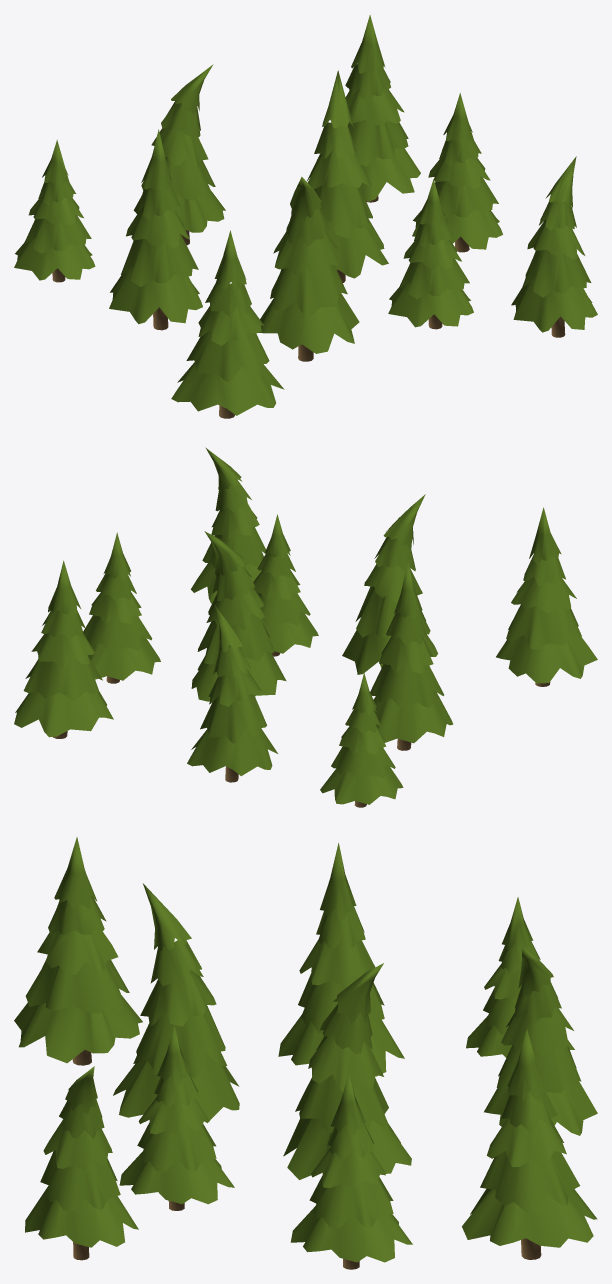
Rendered from pine.glb.
3 renders of one model, top to bottom at view 1: azimuth 30°, elevation 25°; view 2: azimuth 150°, elevation 25°; view 3: azimuth 270°, elevation 25°, orthographic. The views are drawn at different scales.
Parts seen in each view (by area): view 1: Resource_PineTree_Group; view 2: Resource_PineTree_Group; view 3: Resource_PineTree_Group.
Boxes of the visible parts, x1,y1,x2,y2 form: Resource_PineTree_Group: [14, 15, 597, 418]; Resource_PineTree_Group: [14, 447, 597, 807]; Resource_PineTree_Group: [14, 837, 597, 1269].
Size of the model in its own units: 1.78 by 0.7882 by 1.73.
